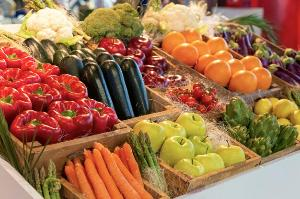apple: (136, 118, 244, 184), (97, 26, 167, 86)
bell_pepper: (1, 35, 86, 147)
carrot: (71, 143, 159, 199)
eggplant: (216, 24, 300, 82)
orange: (167, 27, 268, 85)
tomato: (163, 76, 227, 118)
zucchini: (39, 28, 140, 130)
